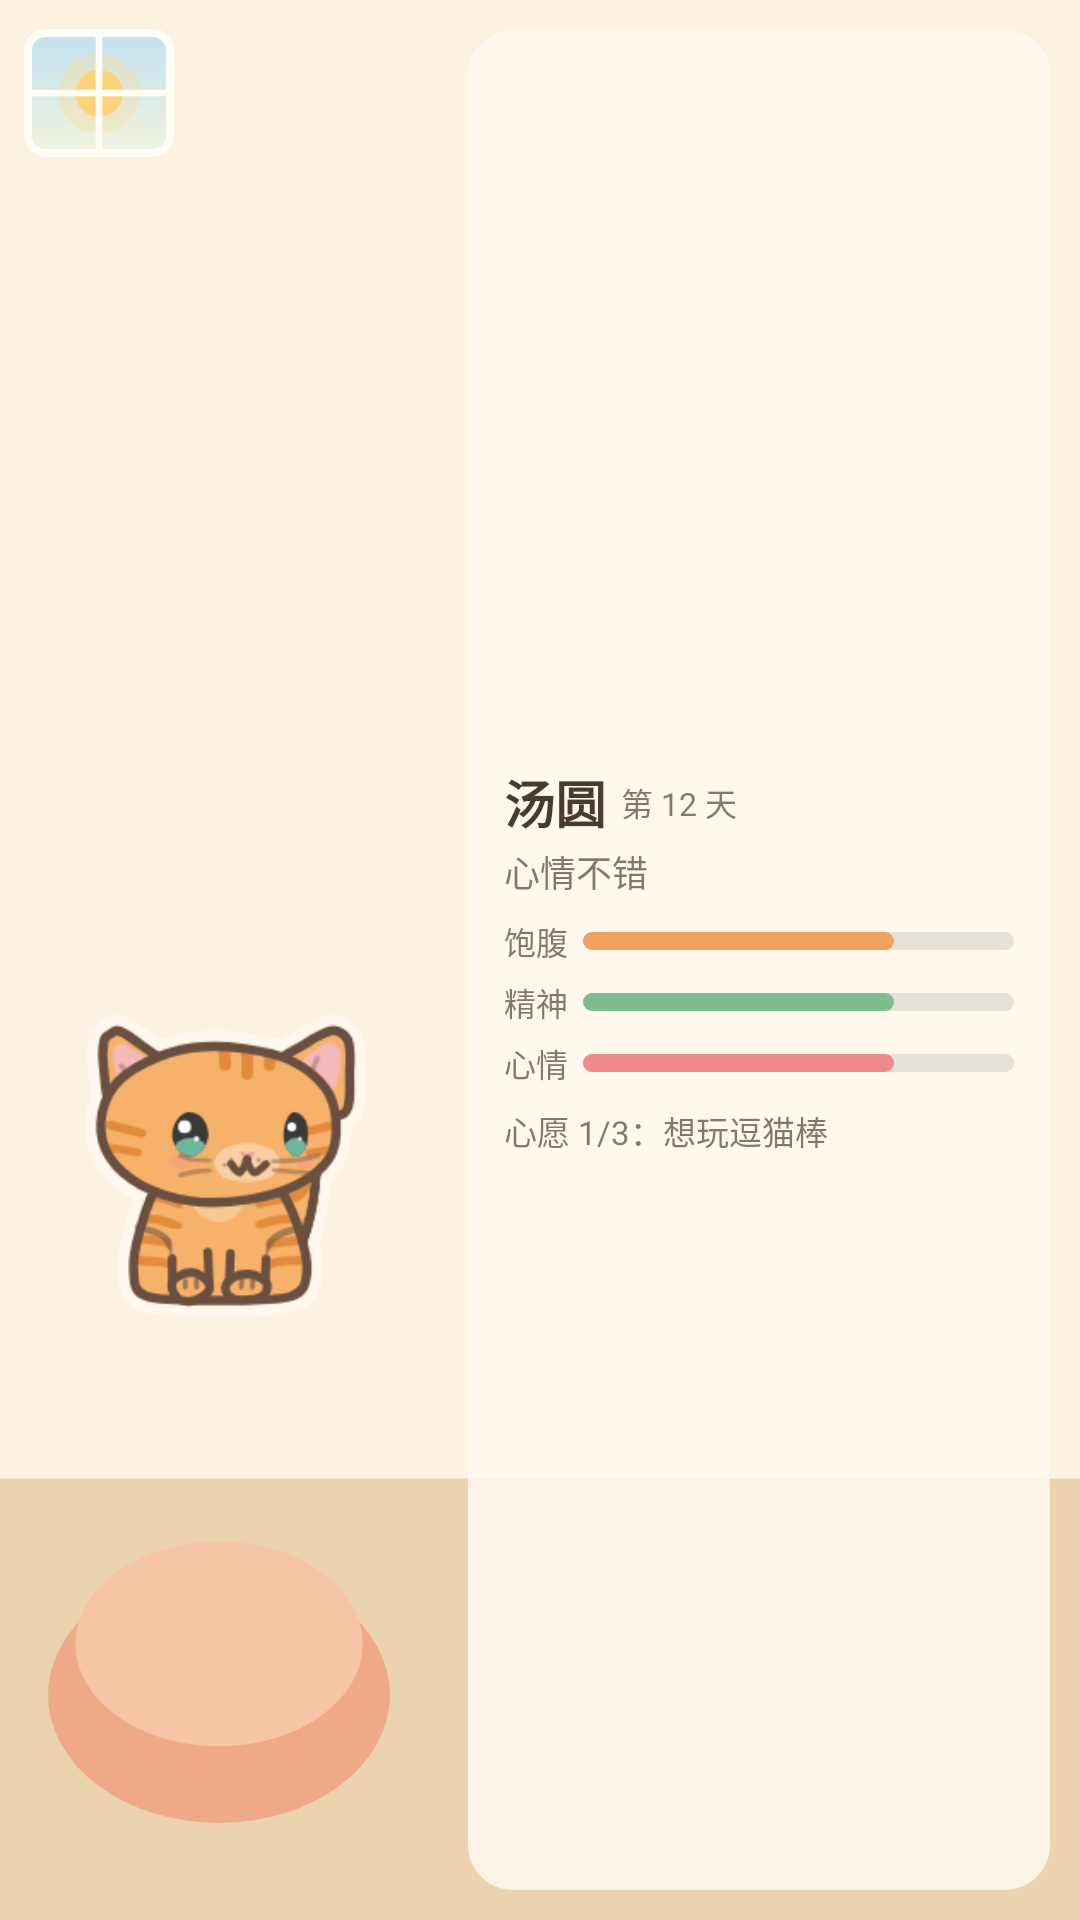

Named icons in this screenshot (1080 x 1920) and their bounding boxes, {"left": x1, "top": y1, "right": x2, "bottom": y2}:
widget cushion: {"left": 48, "top": 1542, "right": 390, "bottom": 1823}
